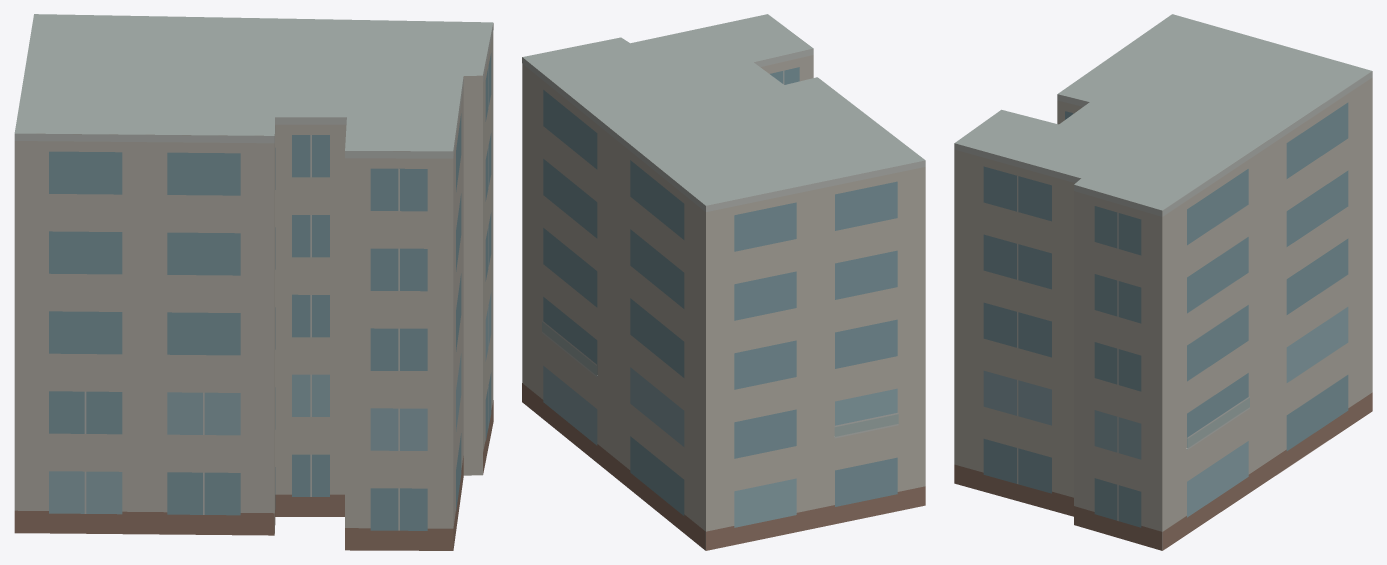
File: survey-upis-32729325.glb
3 views of the same model, side by side, from view 1: azimuth 30°, elevation 25°; view 2: azimuth 150°, elevation 25°; view 3: azimuth 270°, elevation 25° (orthographic). The views are drawn at different scales.
Parts seen in each view (by area): view 1: survey-upis-32729325.tmp; view 2: survey-upis-32729325.tmp; view 3: survey-upis-32729325.tmp.
Boxes of the visible parts, x1,y1,x2,y2 form: survey-upis-32729325.tmp: (14,14,493,550); survey-upis-32729325.tmp: (522,14,925,550); survey-upis-32729325.tmp: (954,14,1372,550).
Size of the model in its own units: 16.24 by 13.1 by 14.6.
